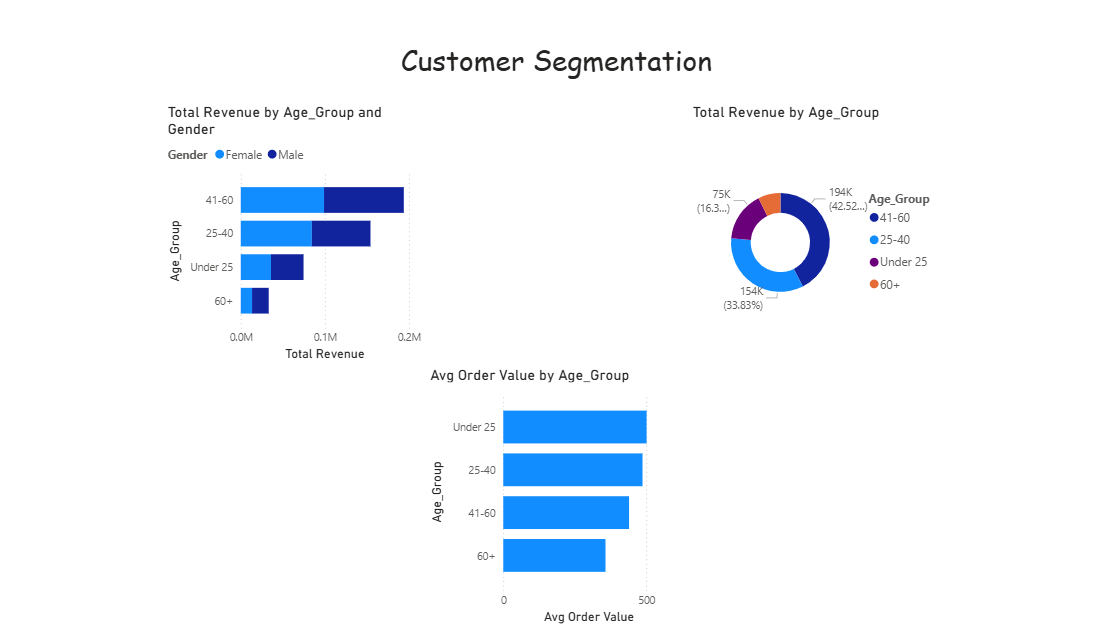

This screenshot's page, from the dashboard's own definition file:
{"tool":"powerbi","page":{"name":"Page 3","canvas":[1280,720],"ordinal":2},"visuals":[{"type":"textbox","box":[400,42.9,478.6,57.1],"z":0},{"type":"barChart","fields":{"Series":["sales_data.Gender"],"Category":["sales_data.Age_Group"],"Y":["Measures_.Total Revenue"]},"box":[190,120,300,300],"z":1},{"type":"donutChart","fields":{"Category":["sales_data.Age_Group"],"Y":["Measures_.Total Revenue"]},"box":[790,120,300,300],"z":2},{"type":"clusteredBarChart","fields":{"Category":["sales_data.Age_Group"],"Y":["Measures_.Avg Order Value"]},"box":[490,420,300,300],"z":3}]}

Visuals, with their boxes in screenshot pixels (x1, y1, x2, y2), scaled from the page's 1280x720 canvas onto the 1115x628 screenshot:
textbox: x1=348 y1=37 x2=765 y2=87
barChart - sales_data.Gender x sales_data.Age_Group: x1=166 y1=105 x2=427 y2=366
donutChart - sales_data.Age_Group x Measures_.Total Revenue: x1=688 y1=105 x2=949 y2=366
clusteredBarChart - sales_data.Age_Group x Measures_.Avg Order Value: x1=427 y1=366 x2=688 y2=627
